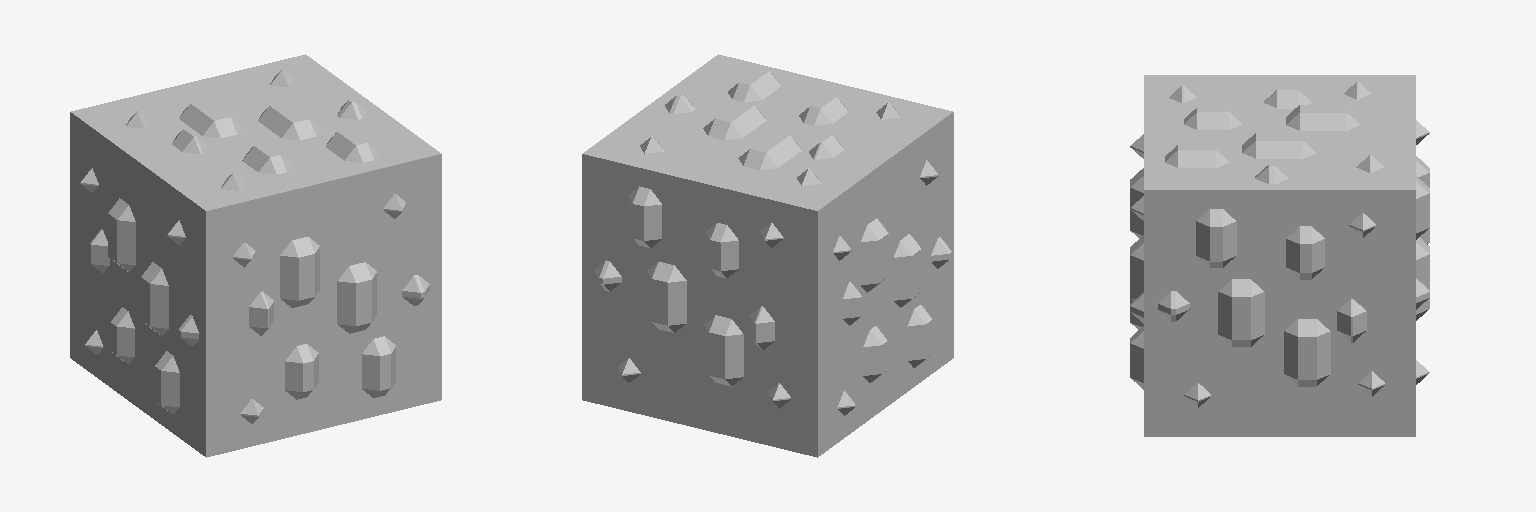
The model's file is Block_Crystal.obj.
3 renders of one model, left to right at view 1: azimuth 30°, elevation 25°; view 2: azimuth 150°, elevation 25°; view 3: azimuth 270°, elevation 25°, orthographic.
Parts seen in each view (by area): view 1: Block_Crystal_Cube.391; view 2: Block_Crystal_Cube.391; view 3: Block_Crystal_Cube.391.
Boxes of the visible parts, x1,y1,x2,y2 form: Block_Crystal_Cube.391: [70, 54, 441, 457]; Block_Crystal_Cube.391: [582, 54, 953, 457]; Block_Crystal_Cube.391: [1130, 75, 1429, 436].
Size of the model in its own units: 2.2 by 2.2 by 2.2.